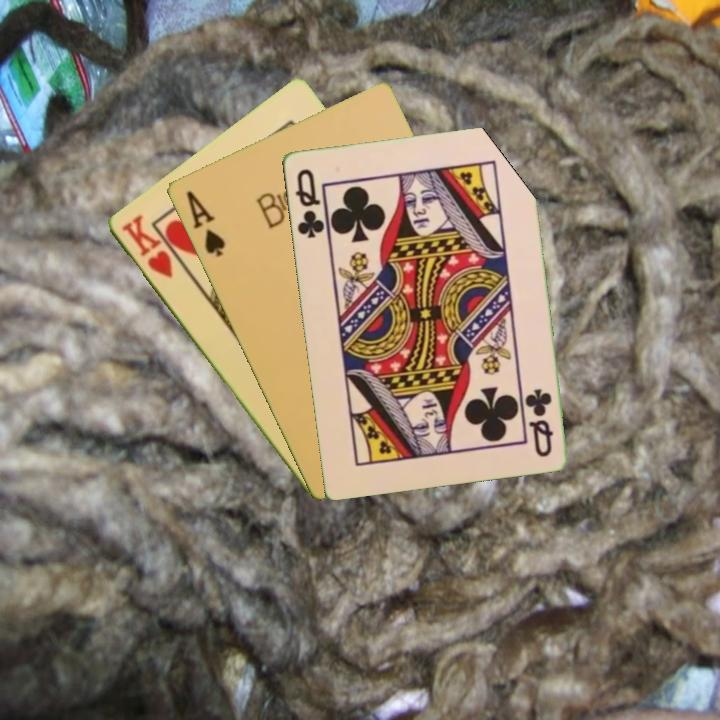As: (182, 187, 228, 260)
Kh: (117, 211, 176, 281)
Qc: (291, 165, 327, 241), (522, 384, 555, 460)
